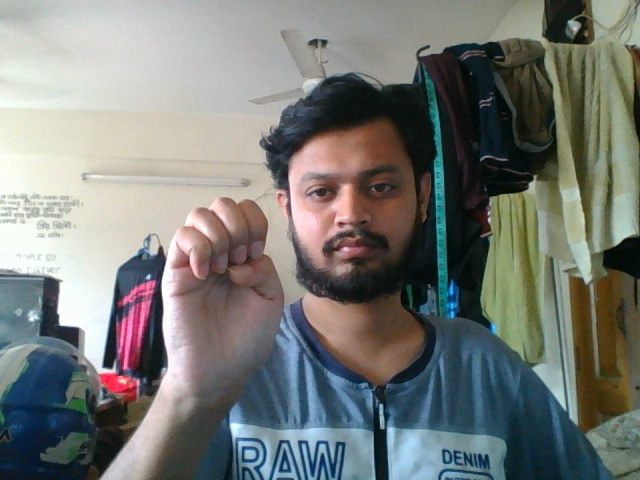sha: (154, 192, 288, 420)
